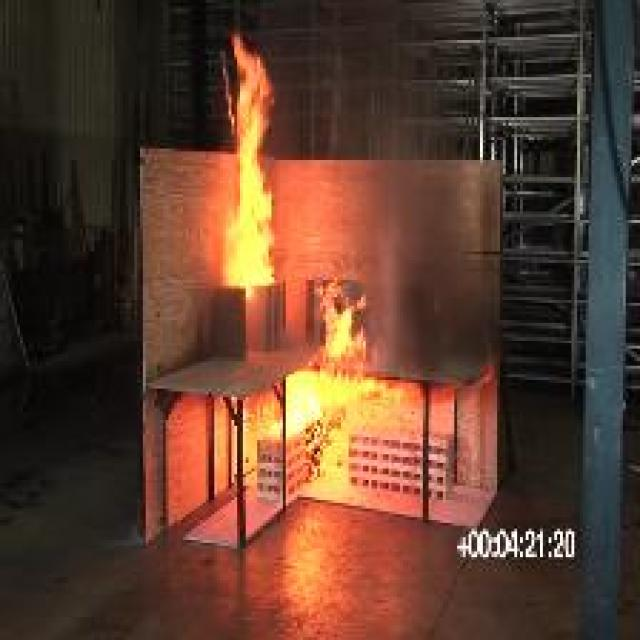fire: (282, 299, 412, 496), (215, 31, 284, 291)
